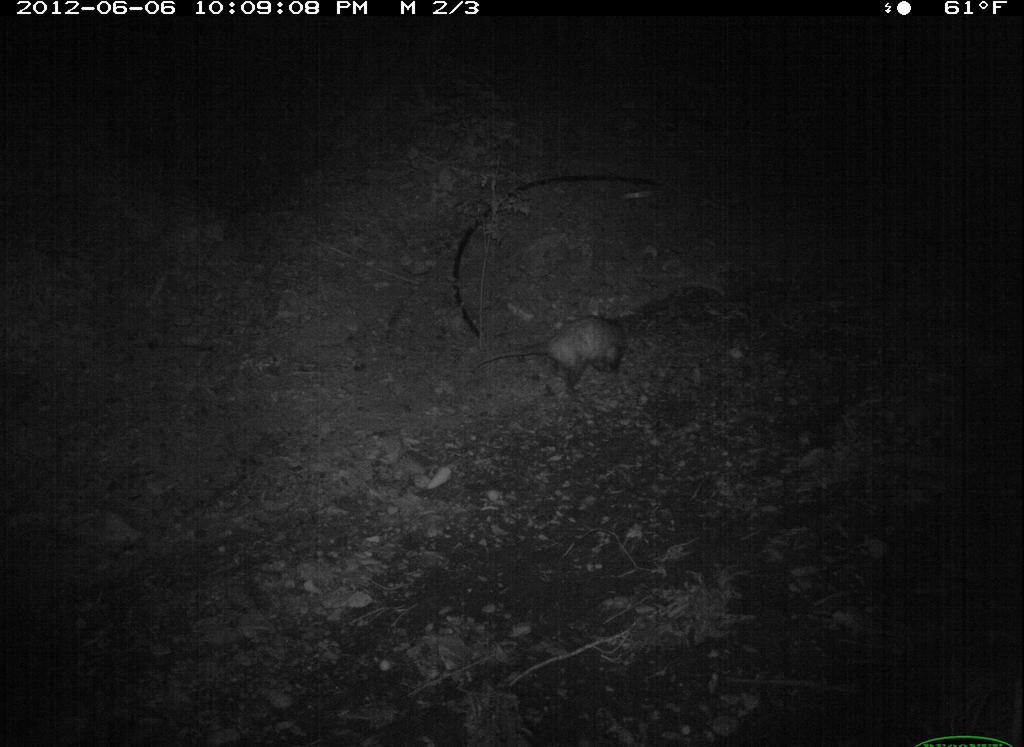opossum: (475, 304, 648, 396)
